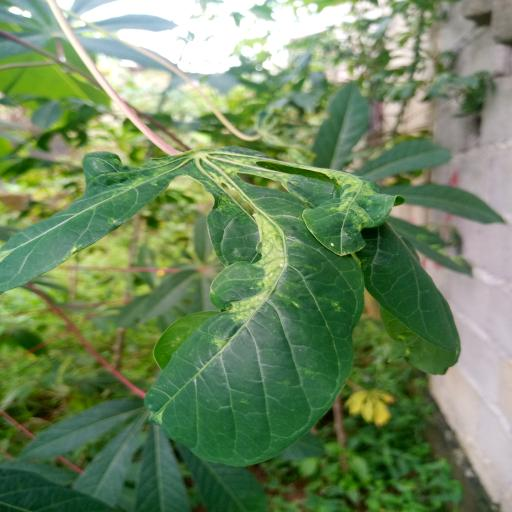Cassava_Mosaic: (2, 134, 472, 474)
